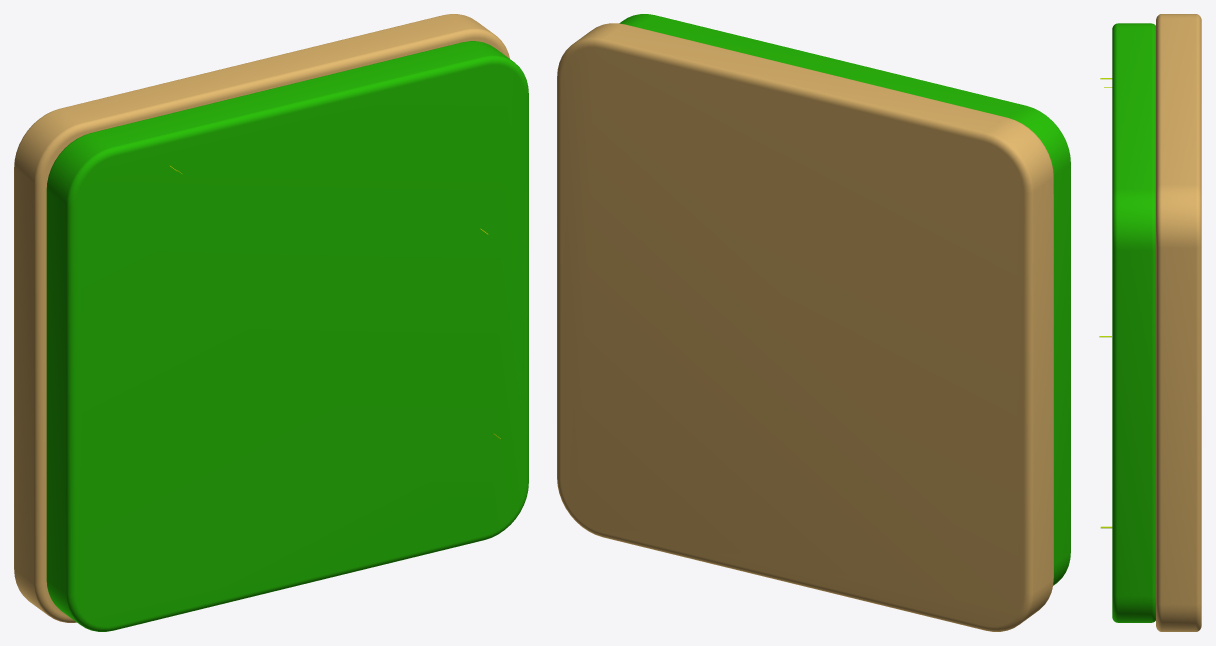
File: land1.fbx
The picture shows the model from 3 angles, left to right: view 1: azimuth 30°, elevation 25°; view 2: azimuth 150°, elevation 25°; view 3: azimuth 270°, elevation 25°; orthographic projection. The views are drawn at different scales.
Parts seen in each view (by area): view 1: land1; view 2: land1; view 3: land1.
Part boxes in pixels (x1=…): land1: x1=14, y1=14, x2=528, y2=631; land1: x1=557, y1=14, x2=1070, y2=631; land1: x1=1099, y1=14, x2=1201, y2=631.
Size of the model in its own units: 9.98 by 2.09 by 9.98.
